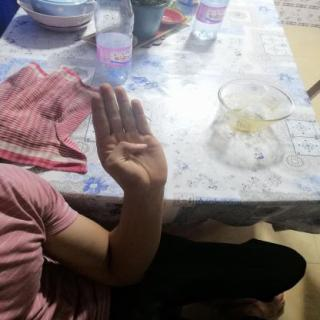KAAF: (80, 76, 182, 202)
